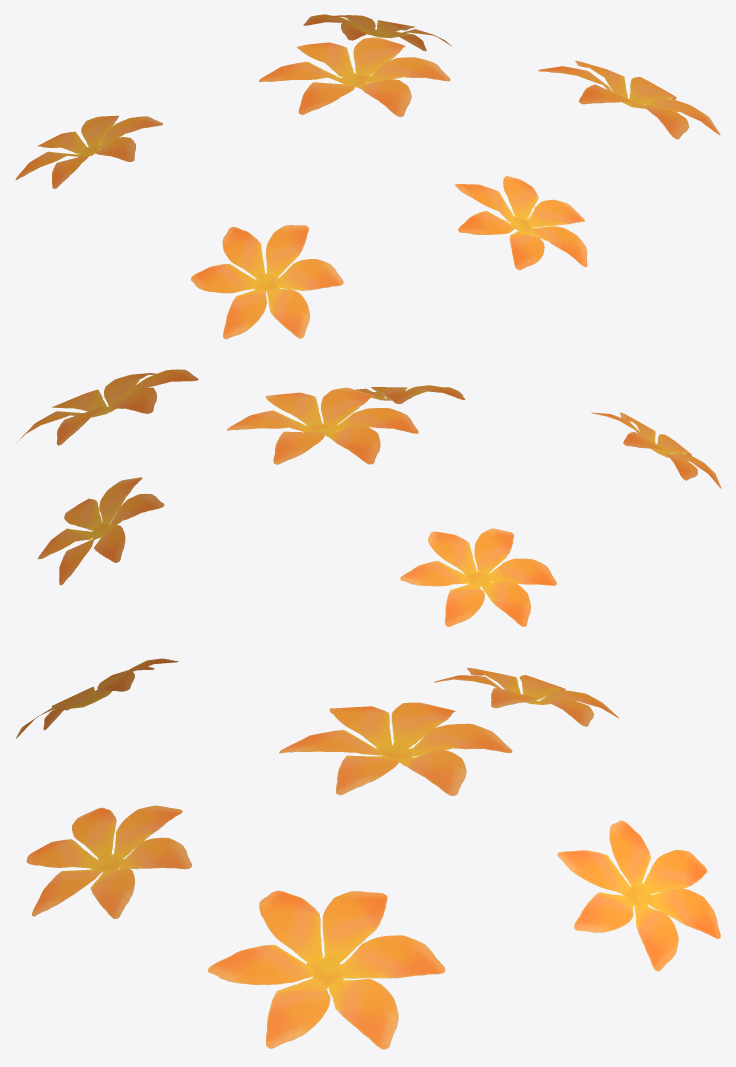
File: Flowers_02.fbx
3 renders of one model, top to bottom at view 1: azimuth 30°, elevation 25°; view 2: azimuth 150°, elevation 25°; view 3: azimuth 270°, elevation 25°, orthographic. The views are drawn at different scales.
Parts seen in each view (by area): view 1: Flowers_02; view 2: Flowers_02; view 3: Flowers_02.
Part boxes in pixels (box(x1,y1,x2,y2)): Flowers_02: box(15, 14, 720, 339); Flowers_02: box(16, 369, 721, 627); Flowers_02: box(16, 658, 720, 1049).
Size of the model in its own units: 32.6 by 5.78 by 28.18.
